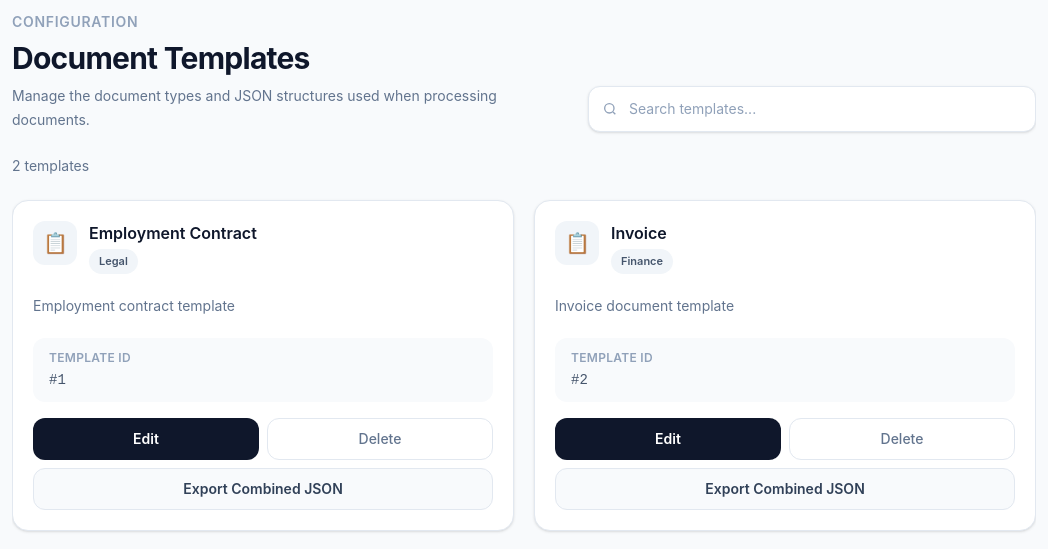
Test case: DocumentTypeList › filters document types using the search input
This screenshot has width=1048, height=549.
Expected: the heading "Employment Contract" is shown, [89,223,257,243]
Type "invoice" into the field with placeholder "Search templates..." at {"x": 812, "y": 109}, box [588,86,1036,132]
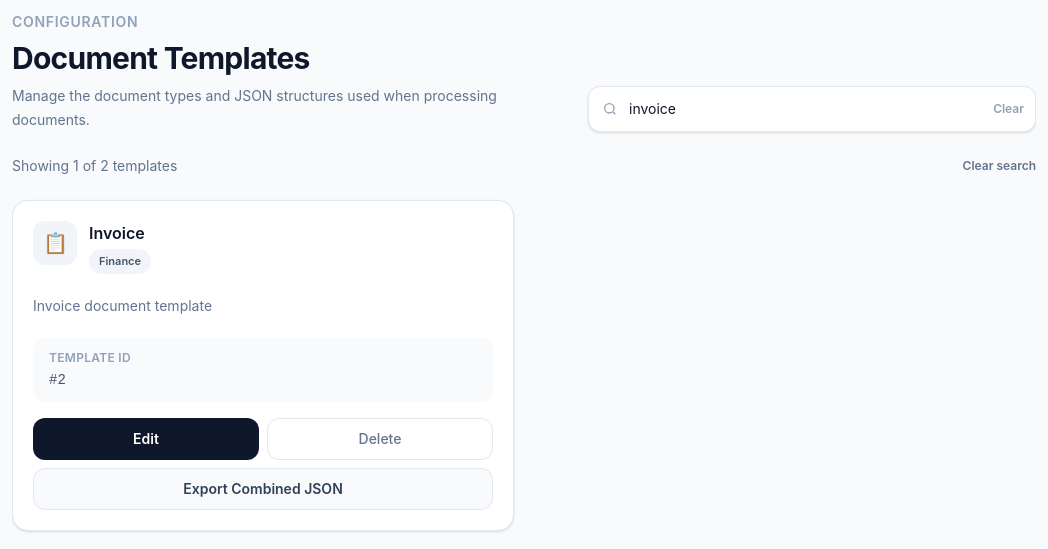
Expected: the heading "Invoice" is shown, [89,223,145,243]
Now the heading "Employment Contract" is gone
Now the text "Showing 1 of 2 templates" is shown, box [12,156,177,176]
